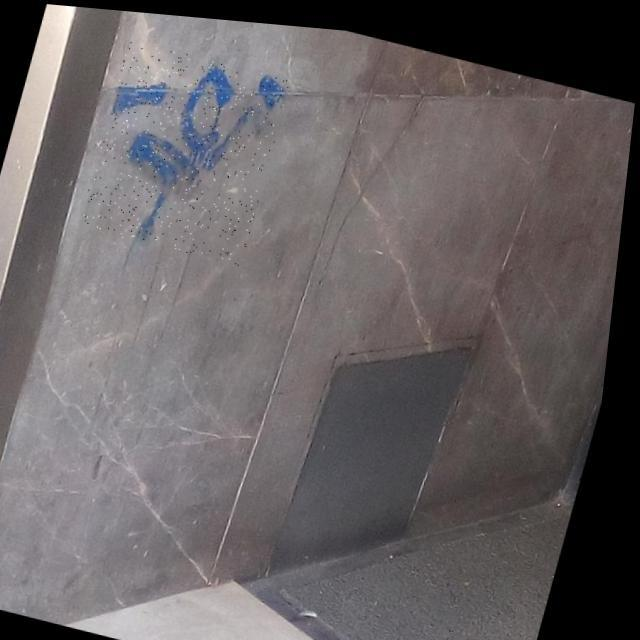-: (81, 35, 295, 265)
